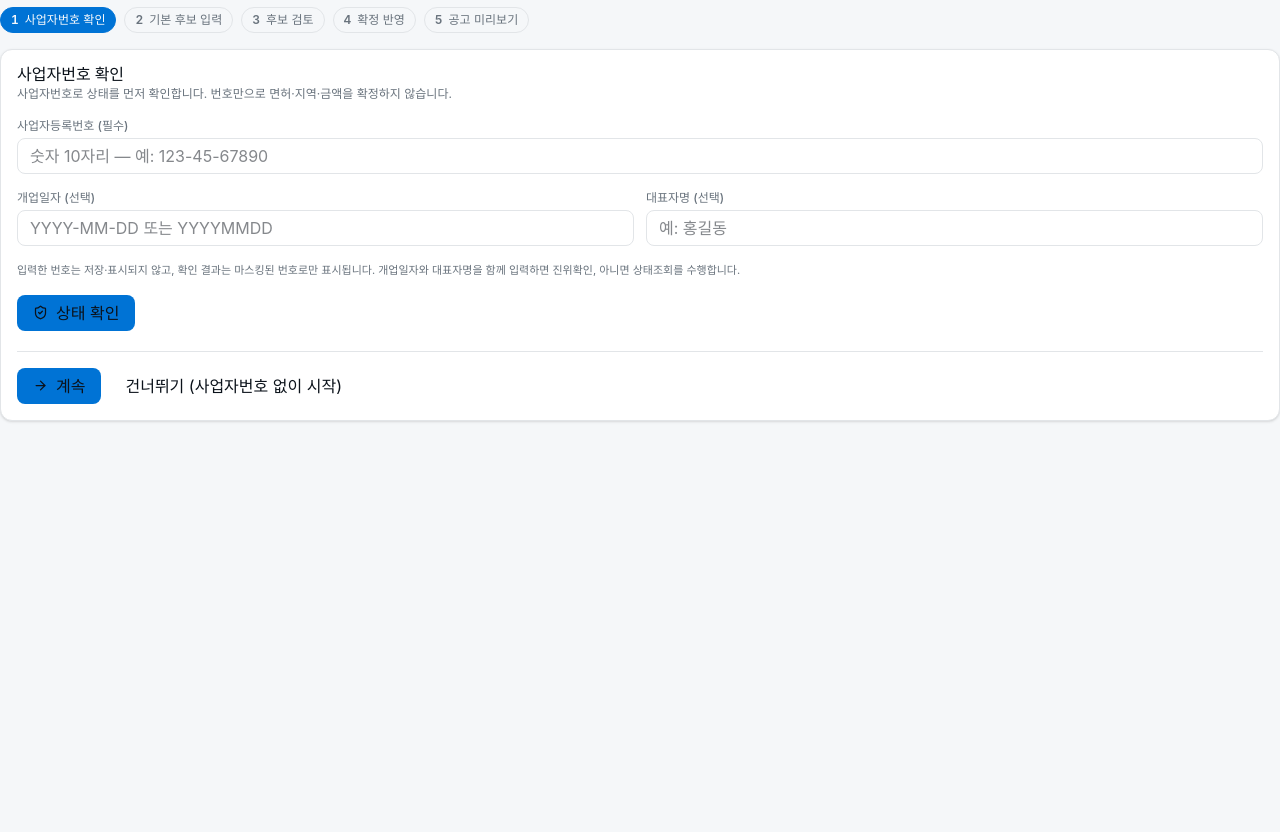
Test: OnboardingWizard › 수락·거부 결정을 apply로 전송하고(미확정만 제외) 성공 시 반영/무시 결과를 보여준다
Click the button "건너뛰기 (사업자번호 없이 시작)" at (234, 386), box x1=110 y1=368 x2=358 y2=404
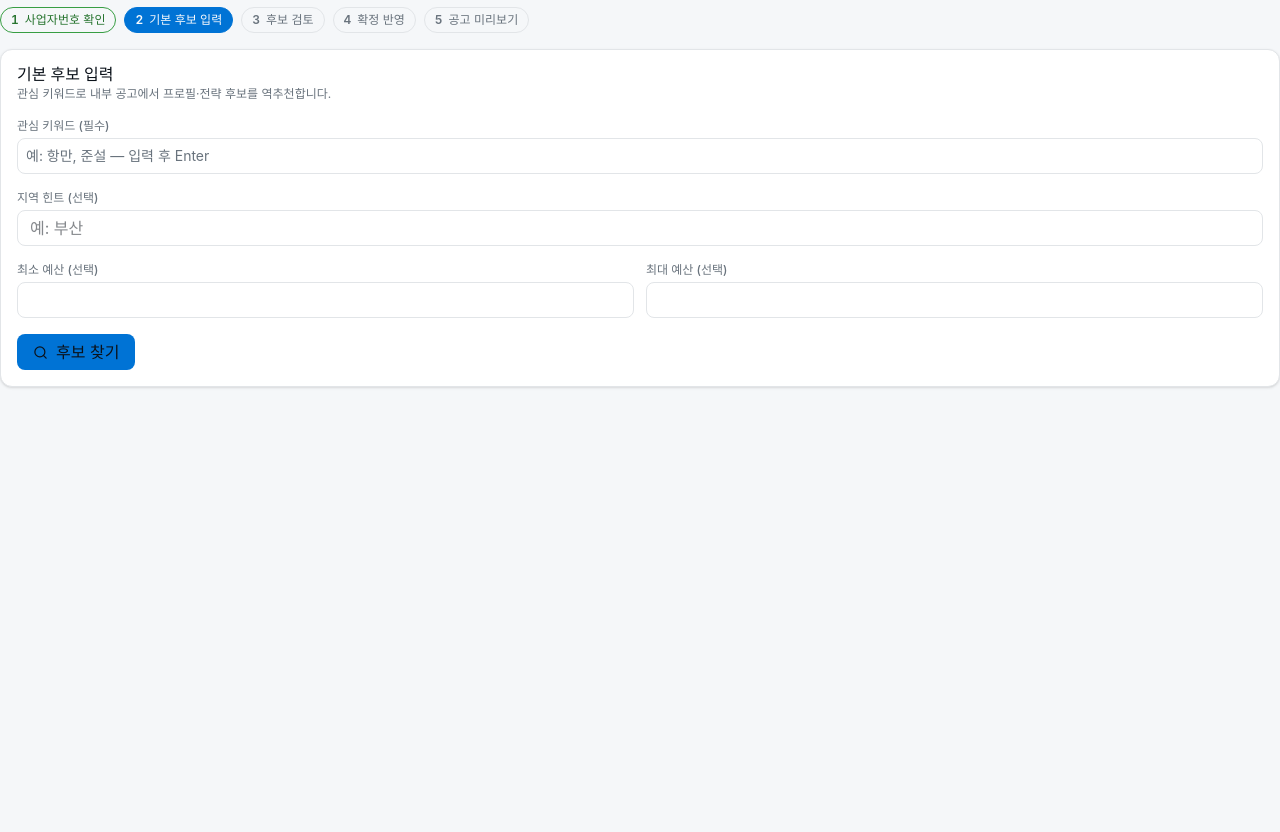
Type "항만" into the field labelled "관심 키워드 (필수)" at (640, 156), box x1=26 y1=146 x2=1254 y2=166
Then press Enter
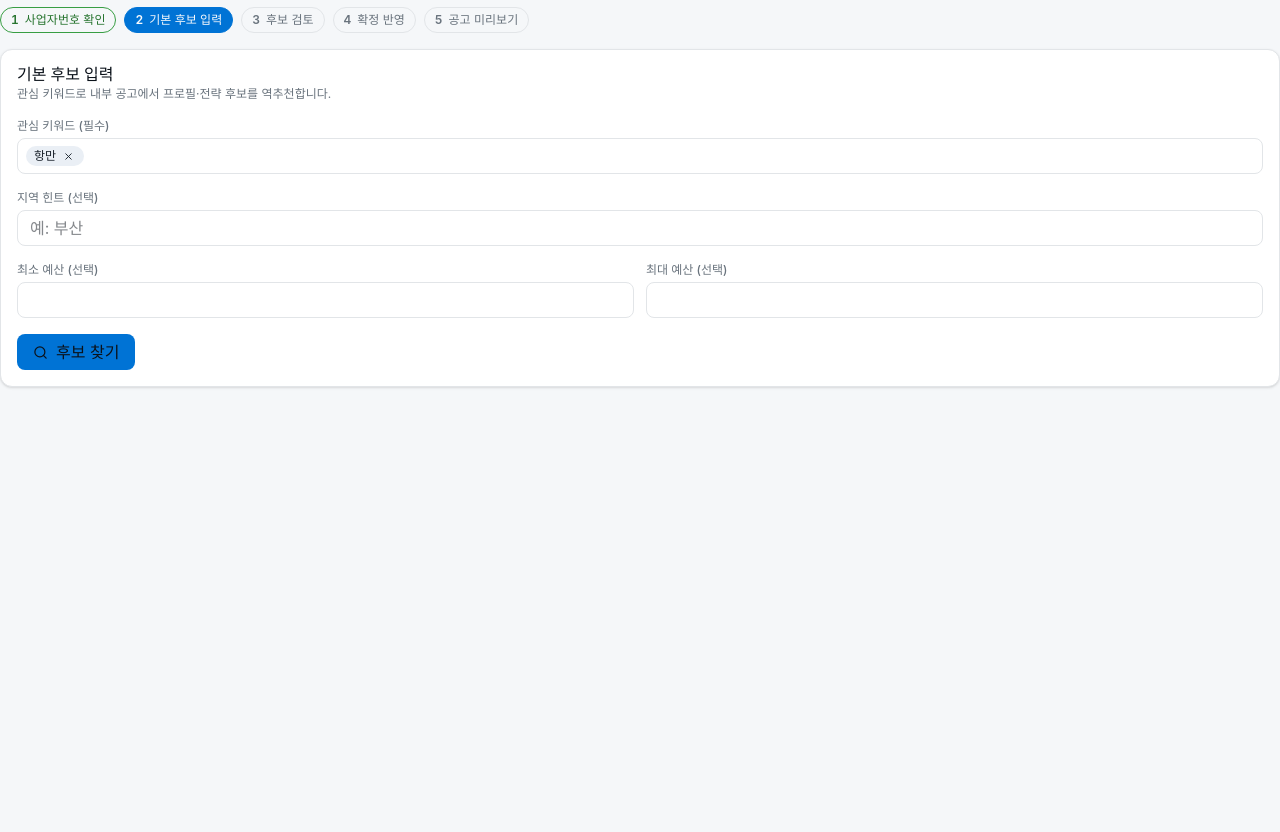
Click the button "후보 찾기" at (76, 352), box x1=17 y1=334 x2=135 y2=370
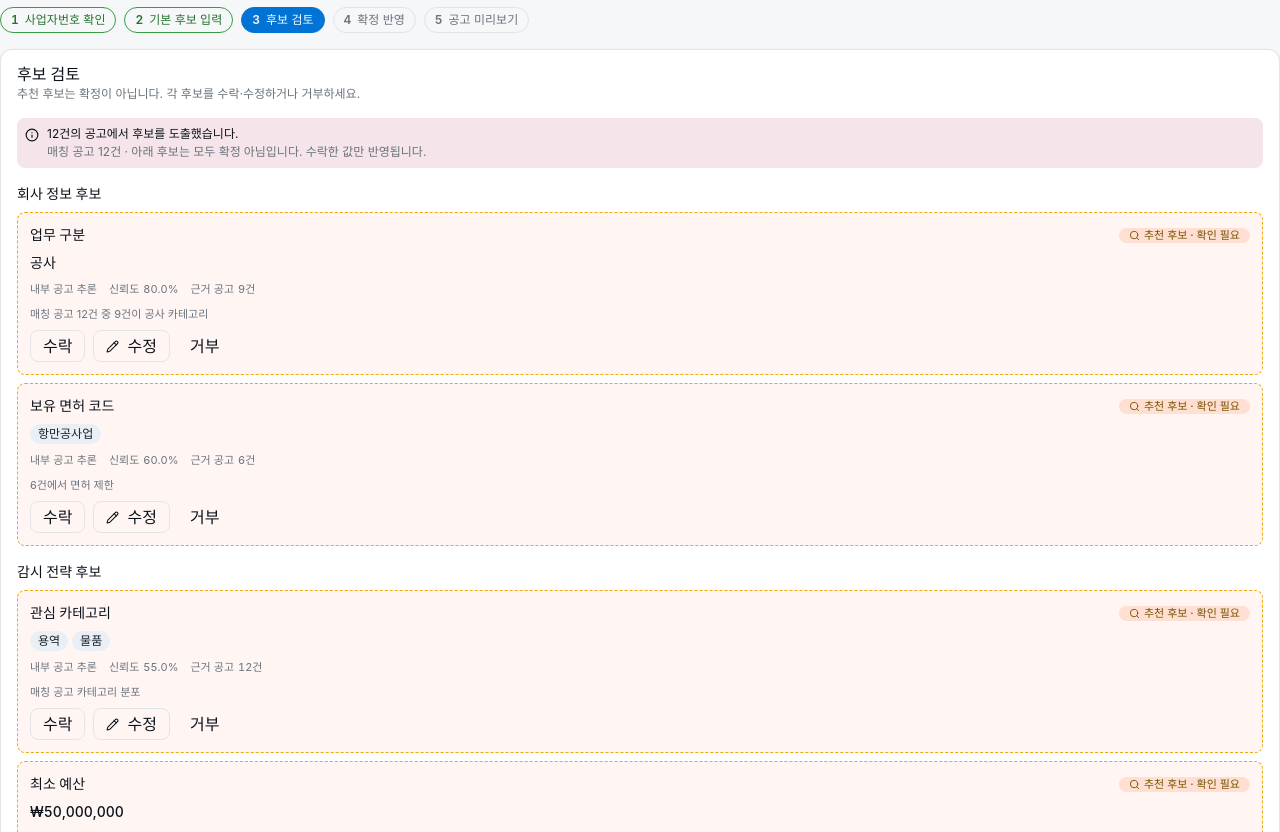
Expected: the text "공사" is shown, x1=30 y1=254 x2=56 y2=271
Click the button "수락" below "업무 구분" at (58, 346), box x1=30 y1=330 x2=86 y2=362
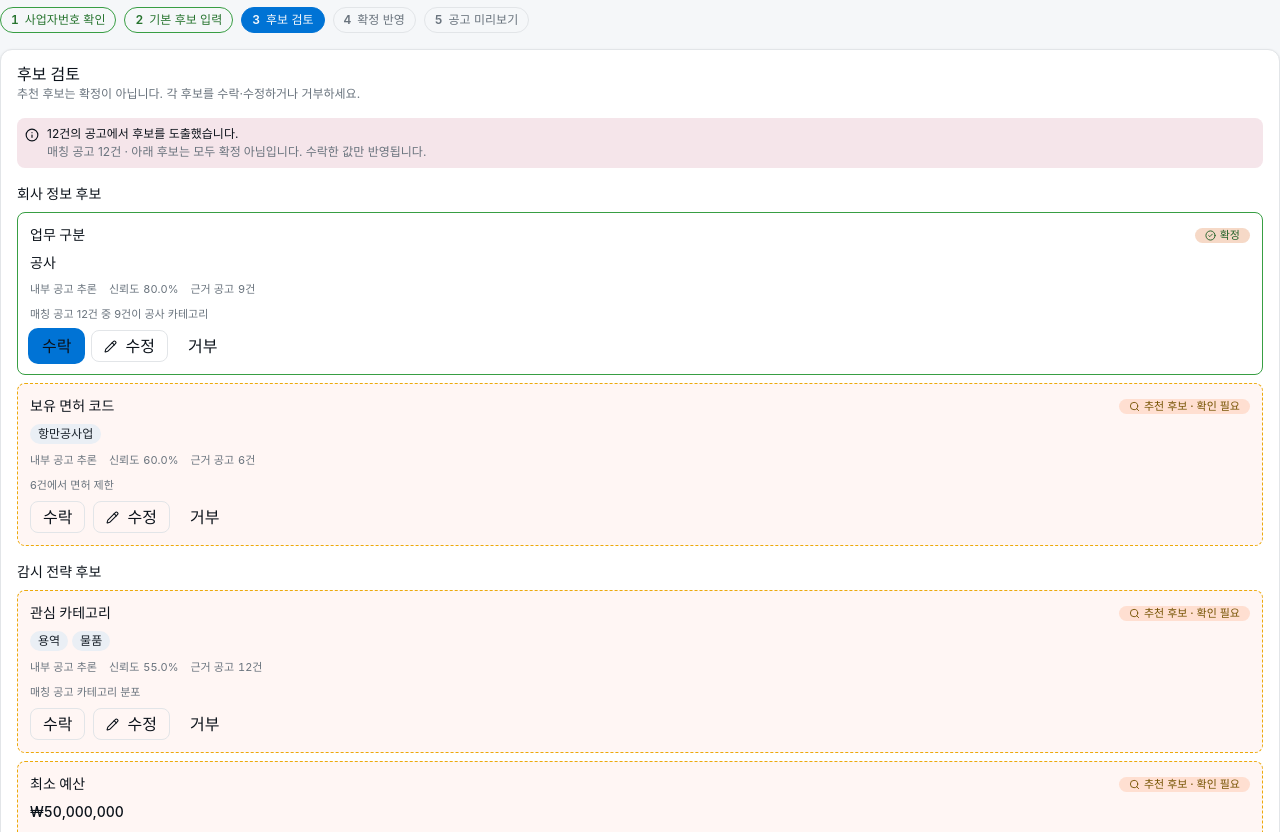
Click the button "거부" below "보유 면허 코드" at (205, 517), box x1=178 y1=501 x2=231 y2=533
(page scrolled)
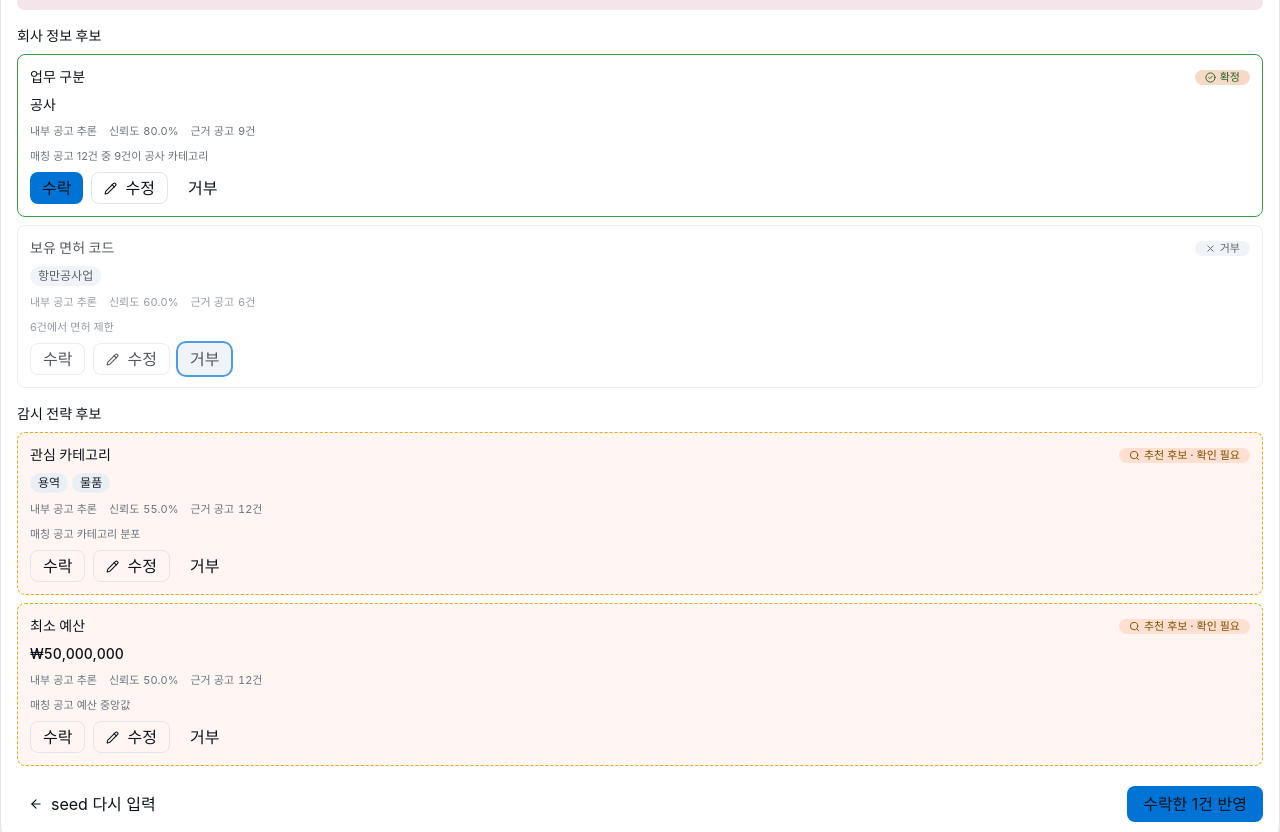
Expected: the button "수락한 1건 반영" is enabled
Click the button "수락한 1건 반영" at (1195, 804), box x1=1127 y1=786 x2=1263 y2=822
(page scrolled)
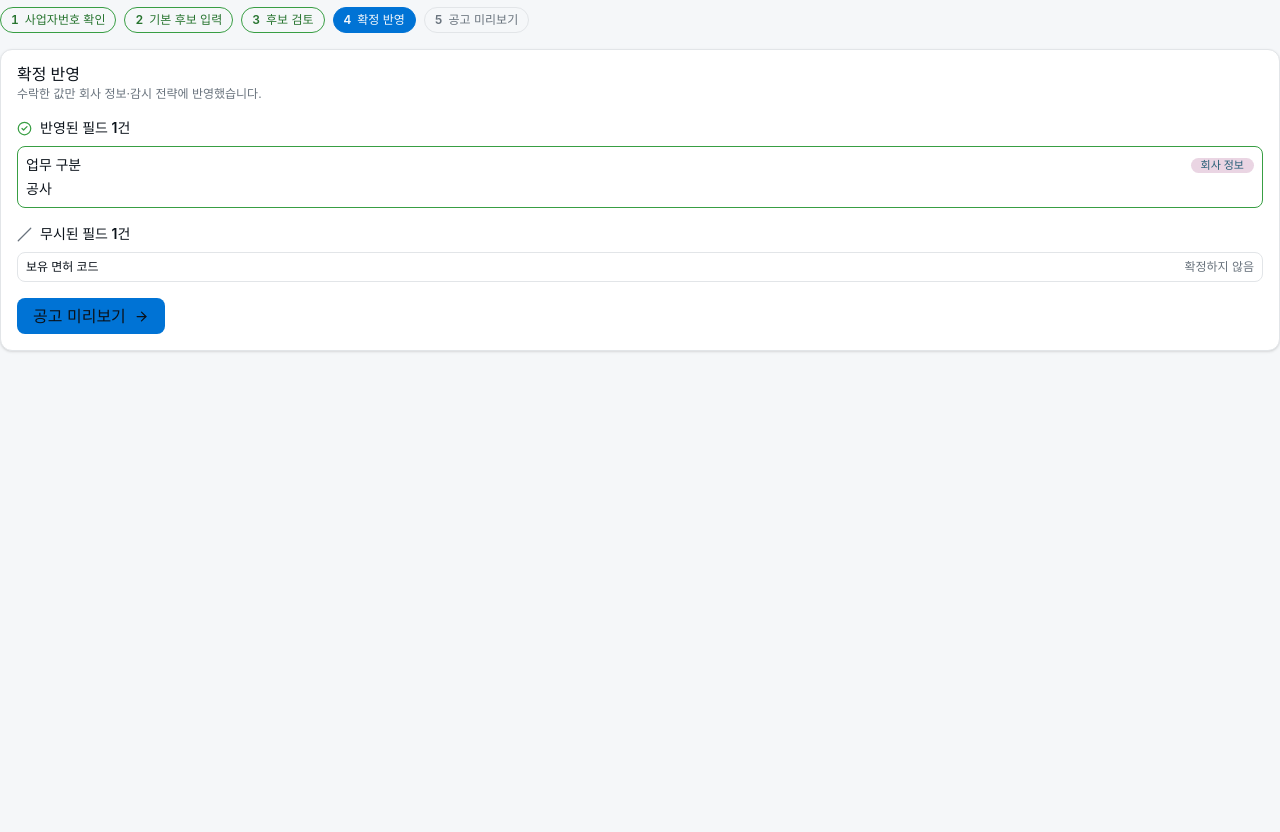
Expected: the text "공사" is shown, x1=26 y1=180 x2=52 y2=197
Expected: the heading "반영된 필드 1건" is shown, x1=40 y1=118 x2=130 y2=138
Expected: the heading "무시된 필드 1건" is shown, x1=40 y1=224 x2=130 y2=244
